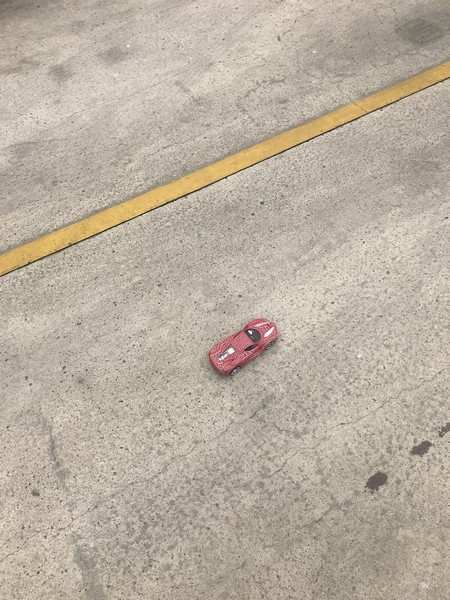RC: (207, 316, 281, 378)
